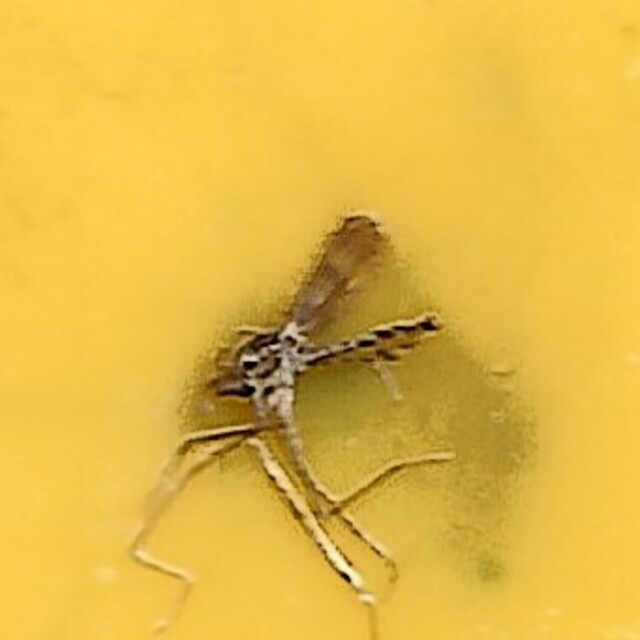Nematocera: (188, 208, 452, 432)
